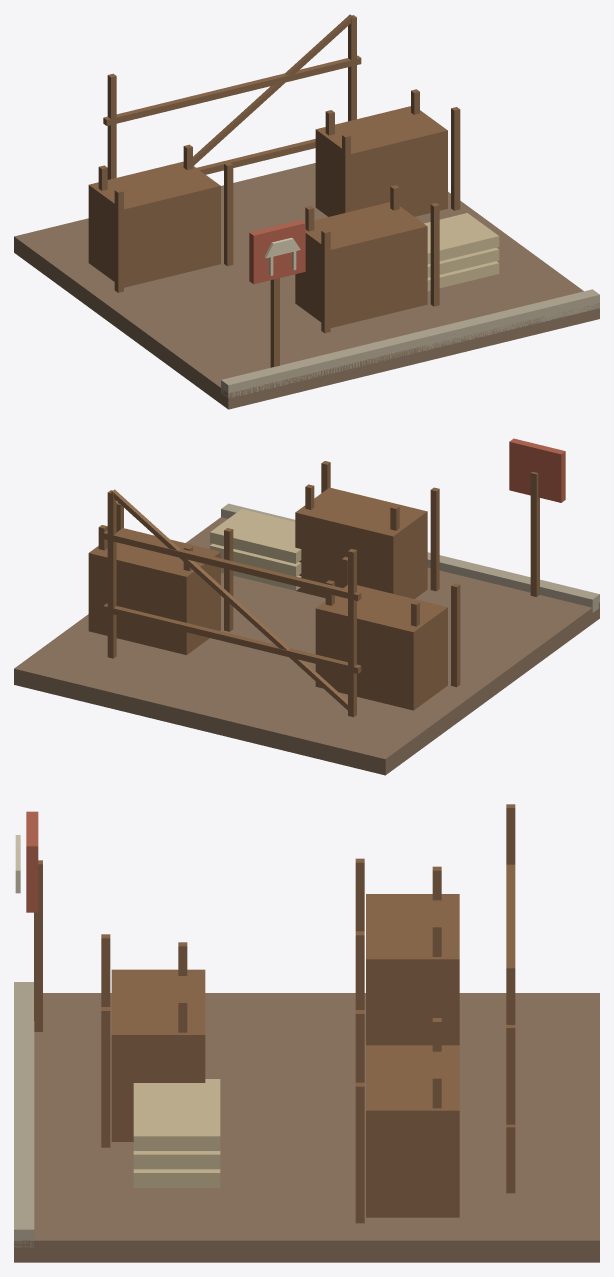
Rendered from market-half-built.glb.
3 renders of one model, top to bottom at view 1: azimuth 30°, elevation 25°; view 2: azimuth 150°, elevation 25°; view 3: azimuth 270°, elevation 25°, orthographic. The views are drawn at different scales.
Parts seen in each view (by area): view 1: market; view 2: market; view 3: market.
Part boxes in pixels (x1=…): market: x1=14, y1=14, x2=599, y2=409; market: x1=14, y1=438, x2=599, y2=775; market: x1=14, y1=804, x2=599, y2=1262.
Size of the model in its own units: 2.88 by 1.38 by 2.88.
